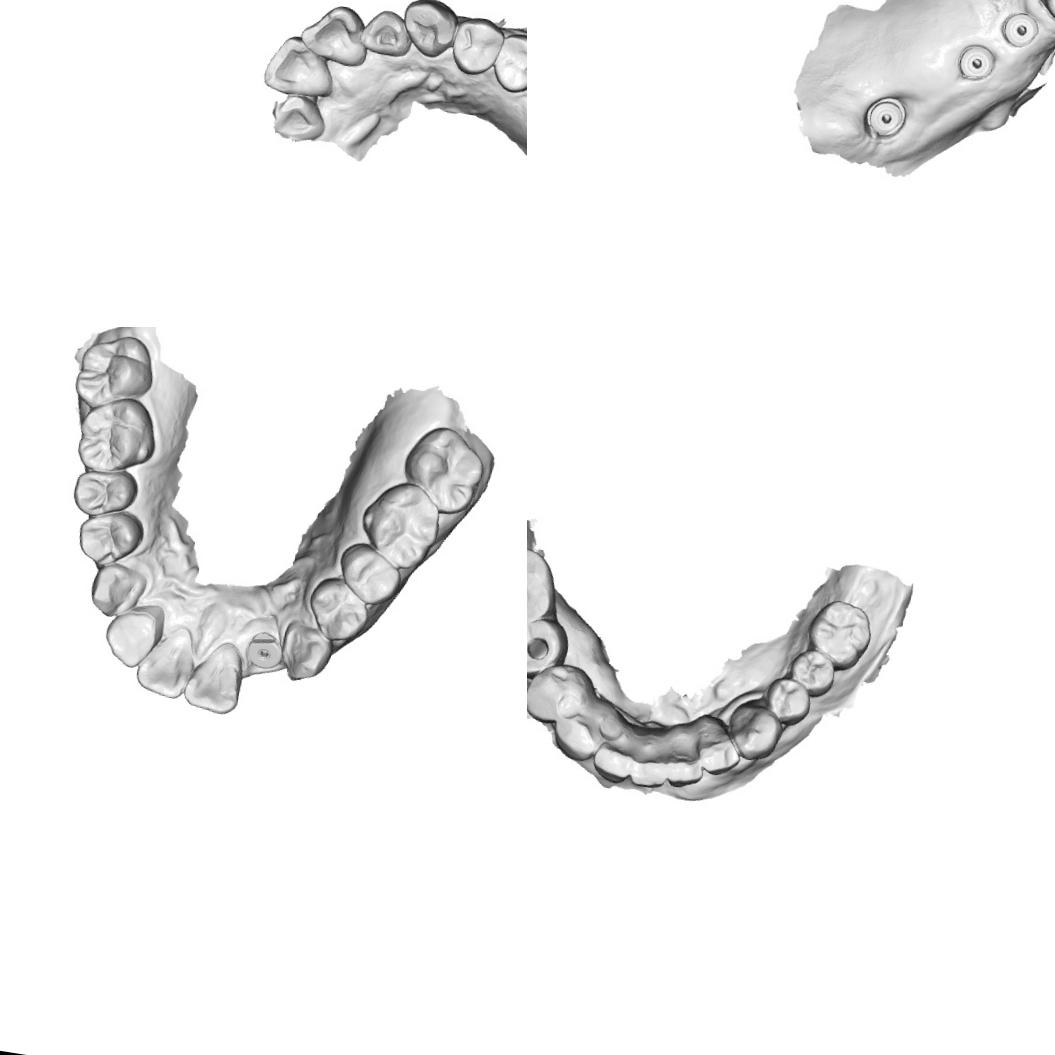canine: (277, 618, 338, 687), (722, 701, 786, 765), (86, 560, 150, 623), (397, 0, 461, 62), (546, 708, 607, 768)
implant: (861, 92, 912, 143), (954, 40, 1000, 86), (998, 10, 1044, 53), (243, 628, 286, 672)
incisor: (259, 31, 342, 102), (295, 0, 374, 69), (181, 637, 248, 716), (132, 620, 197, 701), (100, 604, 160, 672), (268, 92, 330, 146), (356, 5, 416, 59), (588, 739, 635, 785), (698, 734, 743, 781), (624, 755, 672, 793), (664, 752, 704, 796)
molar: (397, 420, 490, 518), (354, 477, 446, 575), (72, 389, 164, 480), (70, 327, 158, 417), (802, 594, 879, 676), (527, 540, 564, 640)
premolar: (303, 572, 375, 647), (72, 504, 148, 574), (334, 540, 406, 610), (527, 657, 591, 730), (69, 463, 141, 524), (448, 12, 508, 80), (527, 611, 572, 682), (762, 672, 814, 730), (784, 647, 838, 700), (488, 29, 527, 97)
